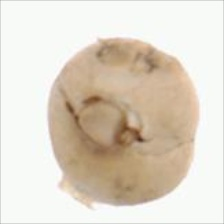L3: (68, 94, 145, 151)
L4: (48, 38, 200, 206)
